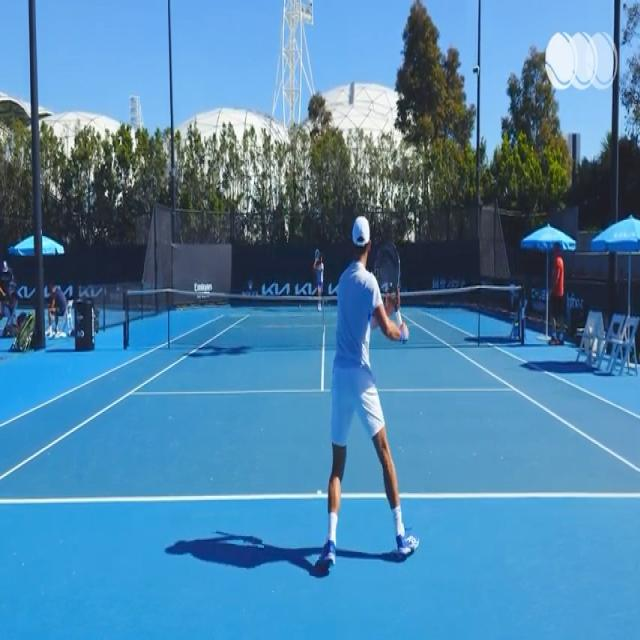ready-position: (312, 198, 421, 588)
